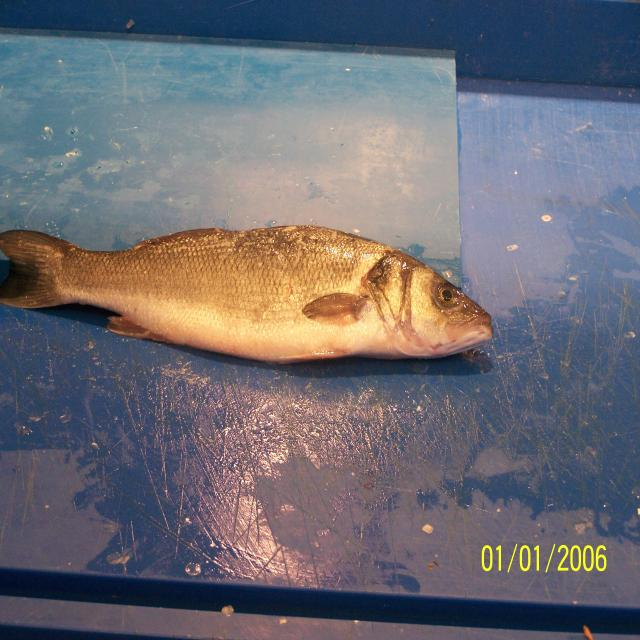Sea-Bass-levrek-: (0, 225, 495, 367)
